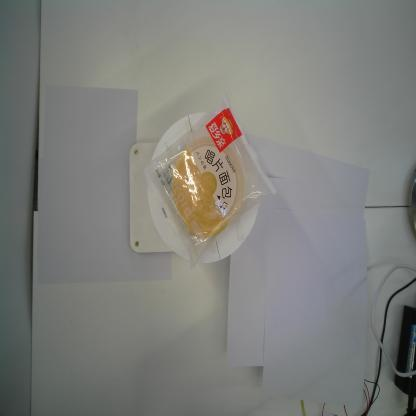Dessert: (136, 87, 280, 274)
